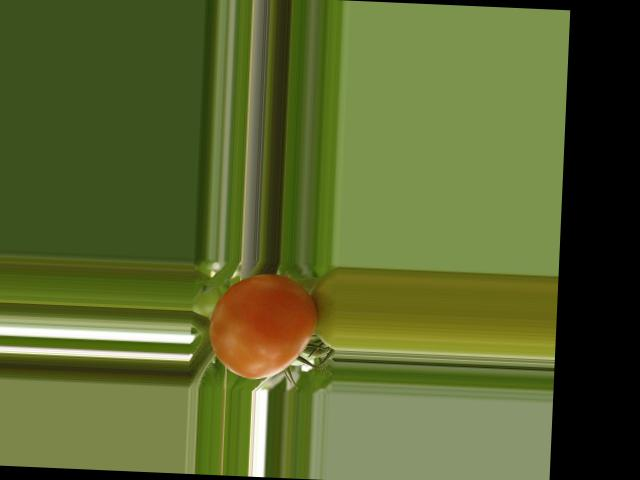tomato: (207, 271, 318, 381)
